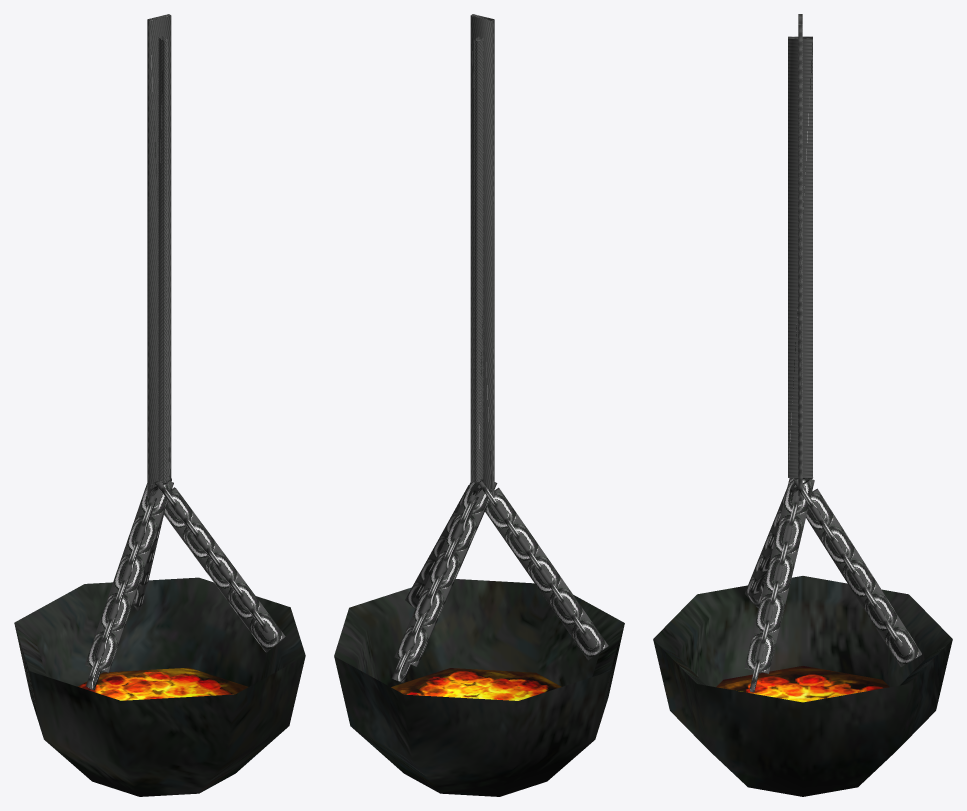
Rendered from INST_SM_BRASIER.fbx.
The picture shows the model from 3 angles, left to right: view 1: azimuth 30°, elevation 25°; view 2: azimuth 150°, elevation 25°; view 3: azimuth 270°, elevation 25°; orthographic projection.
Visible parts, largest first — view 1: INST_SM_BRASIER; view 2: INST_SM_BRASIER; view 3: INST_SM_BRASIER.
Part boxes in pixels (box(x1,y1,x2,y2)): INST_SM_BRASIER: box(14, 14, 305, 796); INST_SM_BRASIER: box(334, 14, 624, 796); INST_SM_BRASIER: box(653, 14, 952, 796).
Size of the model in its own units: 11700 by 32882 by 11700.
Materials: 3 (3 with a texture image).
